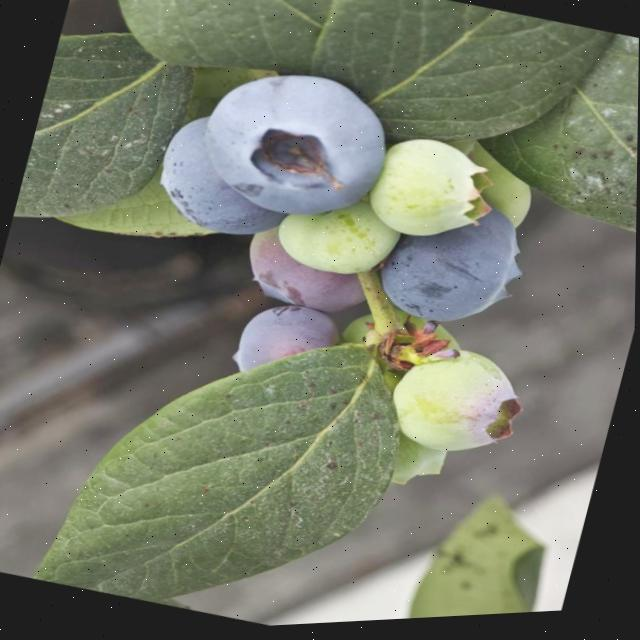RipeBlueBerry: (188, 49, 405, 237)
UnripeBlueBerry: (382, 334, 538, 471), (363, 126, 496, 255)
